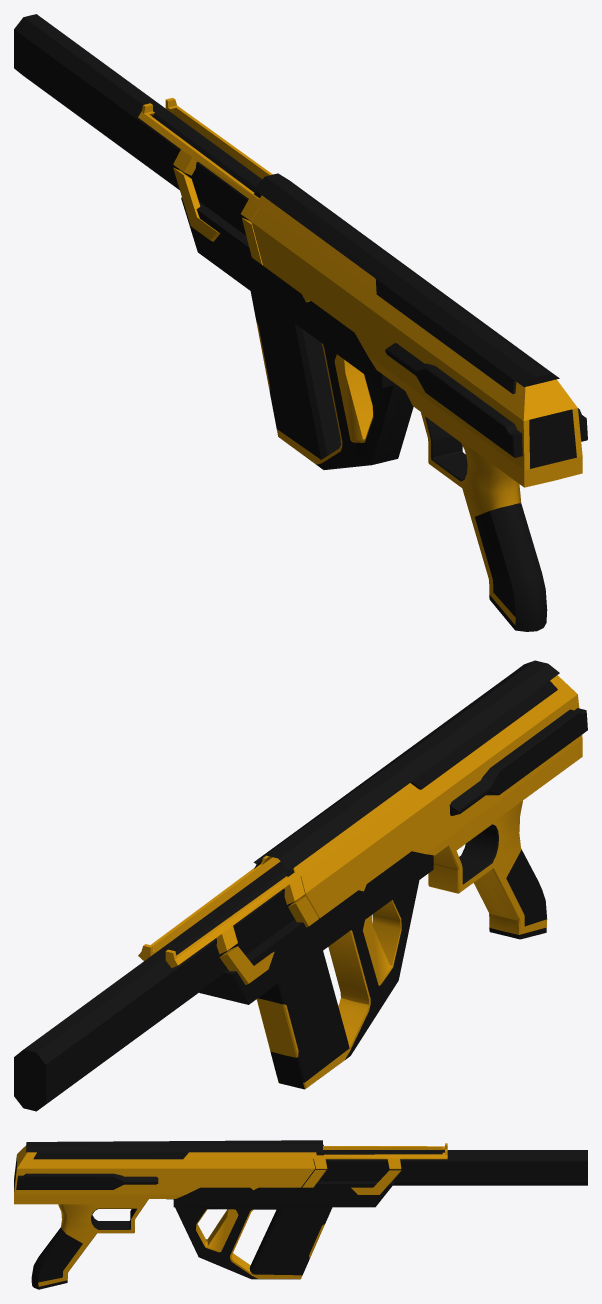
Rendered from animations_laserRifle.fbx.
3 renders of one model, top to bottom at view 1: azimuth 30°, elevation 25°; view 2: azimuth 150°, elevation 25°; view 3: azimuth 270°, elevation 25°, orthographic. The views are drawn at different scales.
Visible parts, largest first — view 1: WEAPON; view 2: WEAPON; view 3: WEAPON.
Part boxes in pixels (x1,y1,x2,y2): WEAPON: (14, 14, 587, 631); WEAPON: (14, 660, 587, 1111); WEAPON: (14, 1140, 587, 1289).
Size of the model in its own units: 7.05 by 23.69 by 85.86.
